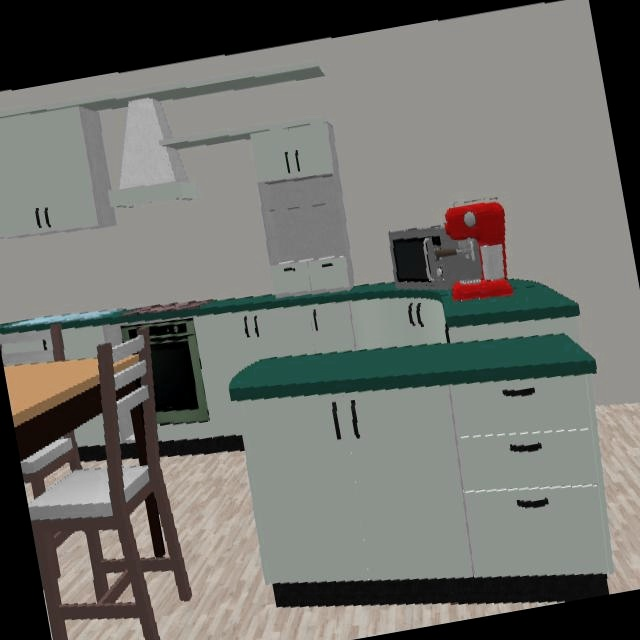cabinet: (196, 298, 612, 586), (247, 118, 350, 290), (0, 107, 100, 240)
chair: (16, 362, 191, 640)
countertop: (227, 333, 598, 401), (139, 278, 581, 328)
microwave: (388, 225, 478, 289)
oven: (137, 324, 204, 419)
sink: (0, 306, 135, 337)
stove: (135, 299, 216, 319)
table: (3, 358, 103, 461)
